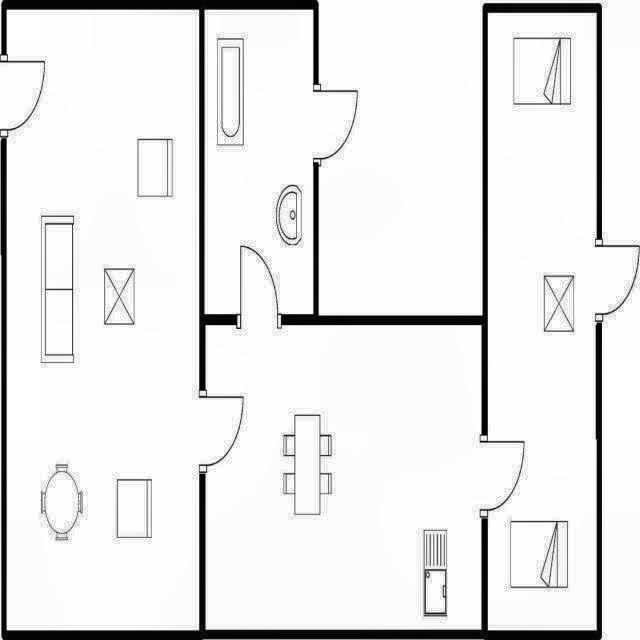room: (7, 9, 199, 630), (205, 326, 482, 630), (488, 13, 597, 630), (205, 10, 313, 314)
